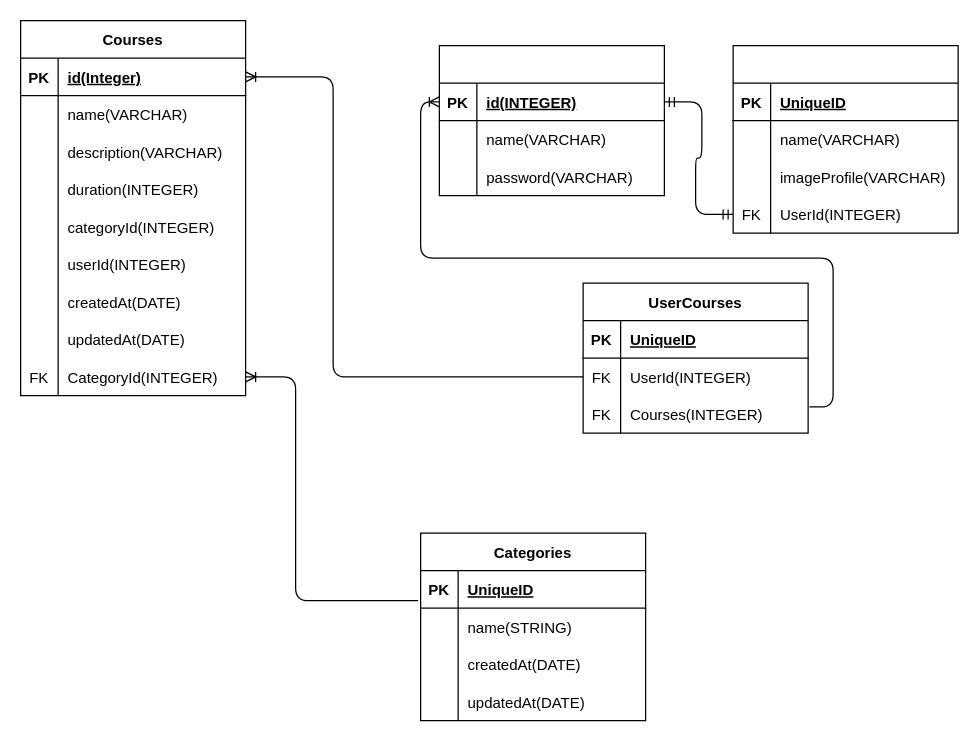
This 979x741 diagram has some shape labels left out. Here are the shapes that lost their labels. From the top down, the box of each, then its label:
(438, 44, 664, 196): Users
(732, 44, 958, 233): Profiles
